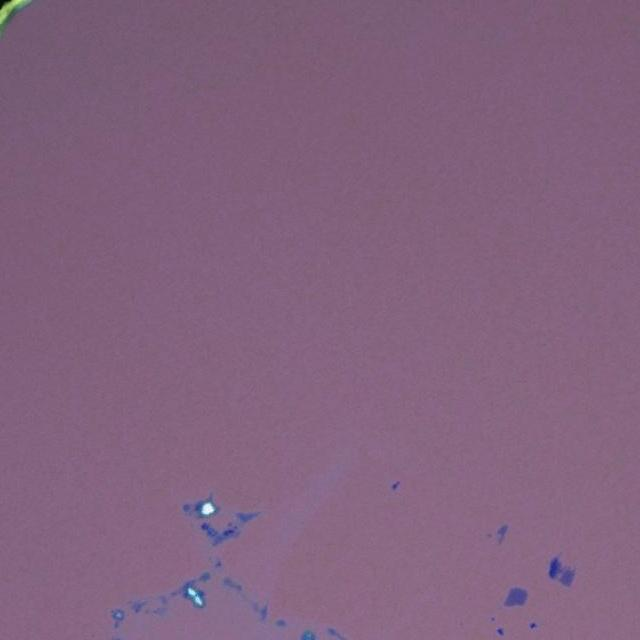monolayer-eWW4: (502, 586, 528, 608), (494, 523, 510, 549), (560, 565, 577, 587)
